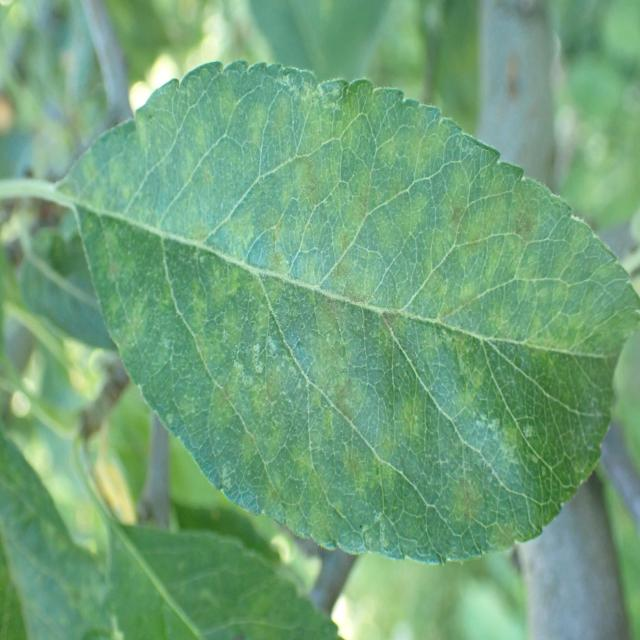scab: (84, 62, 628, 559)
